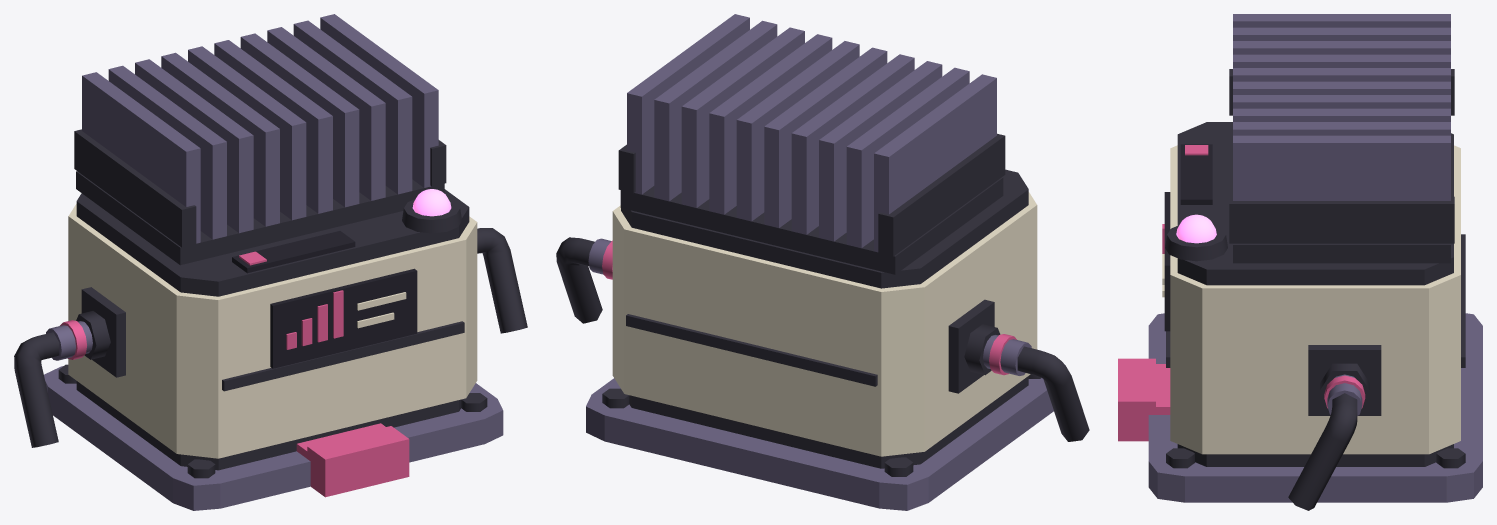
Rendered from signal_amp.glb.
3 renders of one model, left to right at view 1: azimuth 30°, elevation 25°; view 2: azimuth 150°, elevation 25°; view 3: azimuth 270°, elevation 25°, orthographic. The views are drawn at different scales.
Parts seen in each view (by area): view 1: amp_PurpleGrey, amp_CreamHull, amp_Graphite, amp_DecalDark, amp_Pink, amp_Emissive; view 2: amp_PurpleGrey, amp_CreamHull, amp_Graphite, amp_Pink; view 3: amp_PurpleGrey, amp_CreamHull, amp_Graphite, amp_Pink, amp_DecalDark, amp_Emissive.
Part boxes in pixels (box(x1,y1,x2,y2)): amp_PurpleGrey: box(44, 14, 503, 510); amp_CreamHull: box(68, 204, 477, 458); amp_Graphite: box(14, 129, 527, 478); amp_DecalDark: box(232, 231, 417, 368); amp_Pink: box(60, 251, 409, 497); amp_Emissive: box(412, 189, 451, 216); amp_PurpleGrey: box(586, 14, 1053, 510); amp_CreamHull: box(612, 192, 1037, 456); amp_Graphite: box(556, 133, 1089, 476); amp_Pink: box(602, 240, 1016, 375); amp_PurpleGrey: box(1148, 14, 1482, 502); amp_CreamHull: box(1162, 145, 1460, 454); amp_Graphite: box(1165, 69, 1465, 510); amp_Pink: box(1118, 145, 1365, 441); amp_DecalDark: box(1164, 144, 1212, 331); amp_Emissive: box(1176, 214, 1216, 243).
Size of the model in its own units: 0.408 by 0.259 by 0.251.
